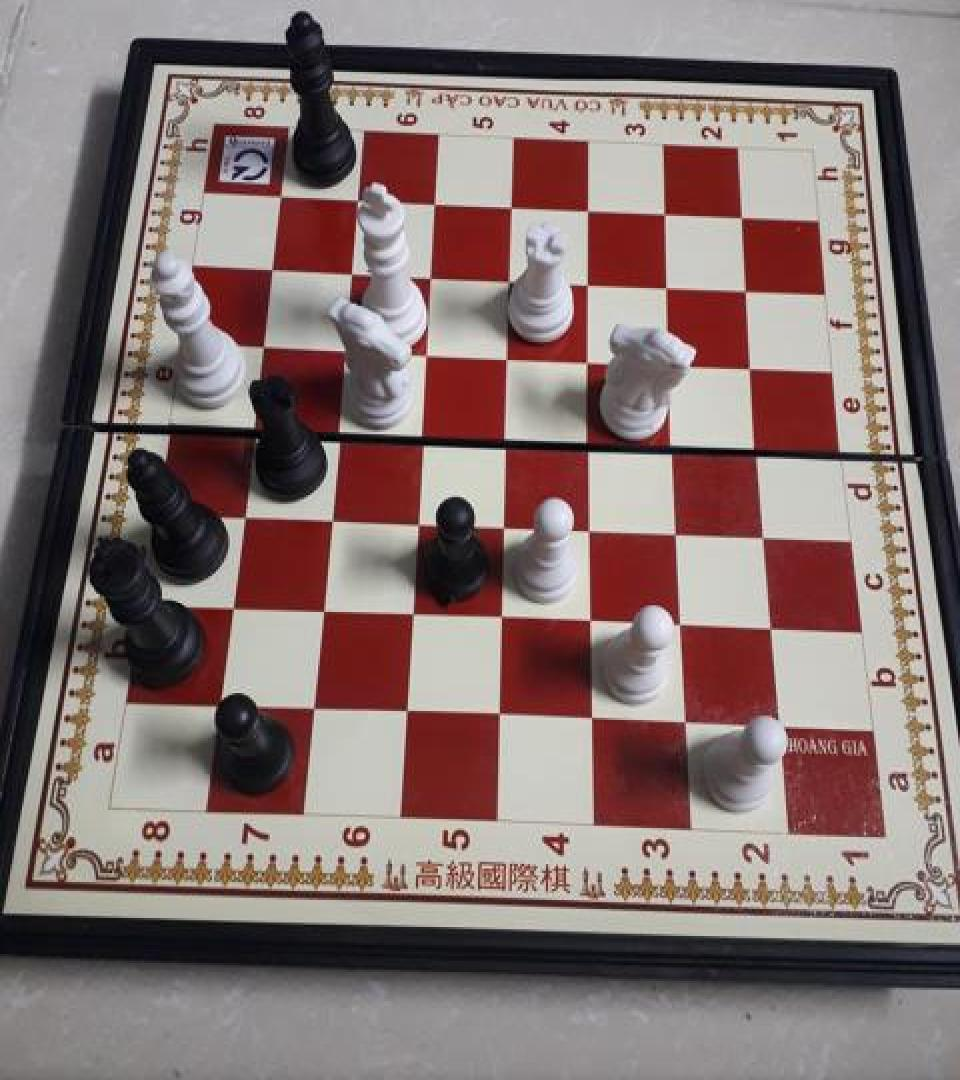xcorner: (205, 688, 237, 725), (487, 697, 519, 734), (758, 608, 790, 645), (300, 692, 332, 728), (394, 695, 426, 731), (580, 701, 612, 737), (673, 704, 705, 740), (765, 706, 797, 742), (217, 590, 249, 626), (308, 593, 340, 629), (399, 596, 431, 632), (489, 600, 521, 636), (579, 602, 611, 638), (669, 605, 701, 641), (228, 497, 260, 533), (316, 500, 348, 536), (404, 504, 436, 540), (491, 508, 523, 544), (578, 510, 610, 546), (665, 513, 697, 549), (752, 516, 784, 552), (238, 410, 270, 446), (323, 414, 355, 450), (408, 418, 440, 454), (493, 421, 525, 457), (577, 424, 609, 460), (662, 426, 694, 462), (745, 430, 777, 466), (247, 330, 279, 366), (330, 333, 362, 369), (412, 336, 444, 372), (495, 338, 527, 374), (577, 342, 609, 378), (658, 346, 690, 382), (740, 349, 772, 385), (256, 253, 288, 289), (336, 256, 368, 292), (417, 259, 449, 295), (496, 262, 528, 298), (576, 266, 608, 302), (655, 269, 687, 305), (734, 272, 766, 308), (264, 180, 296, 216), (343, 184, 375, 220), (420, 187, 452, 223), (498, 190, 530, 226), (575, 194, 607, 230), (652, 197, 684, 233), (729, 200, 761, 236)
